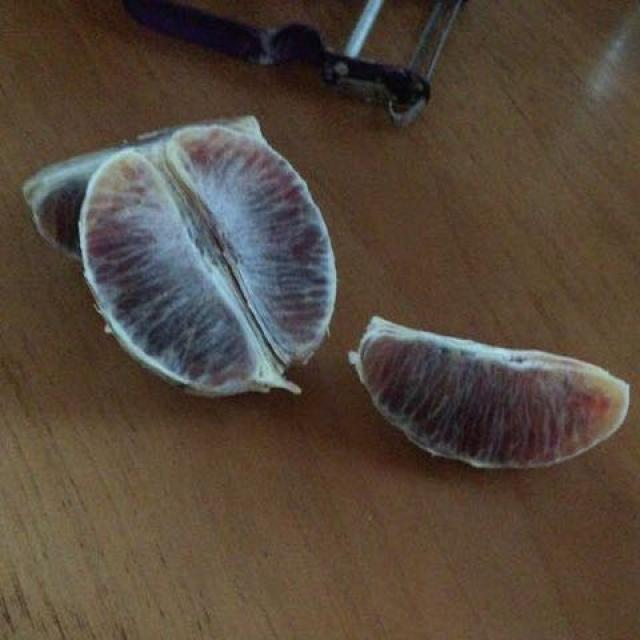orange: (16, 112, 629, 464)
